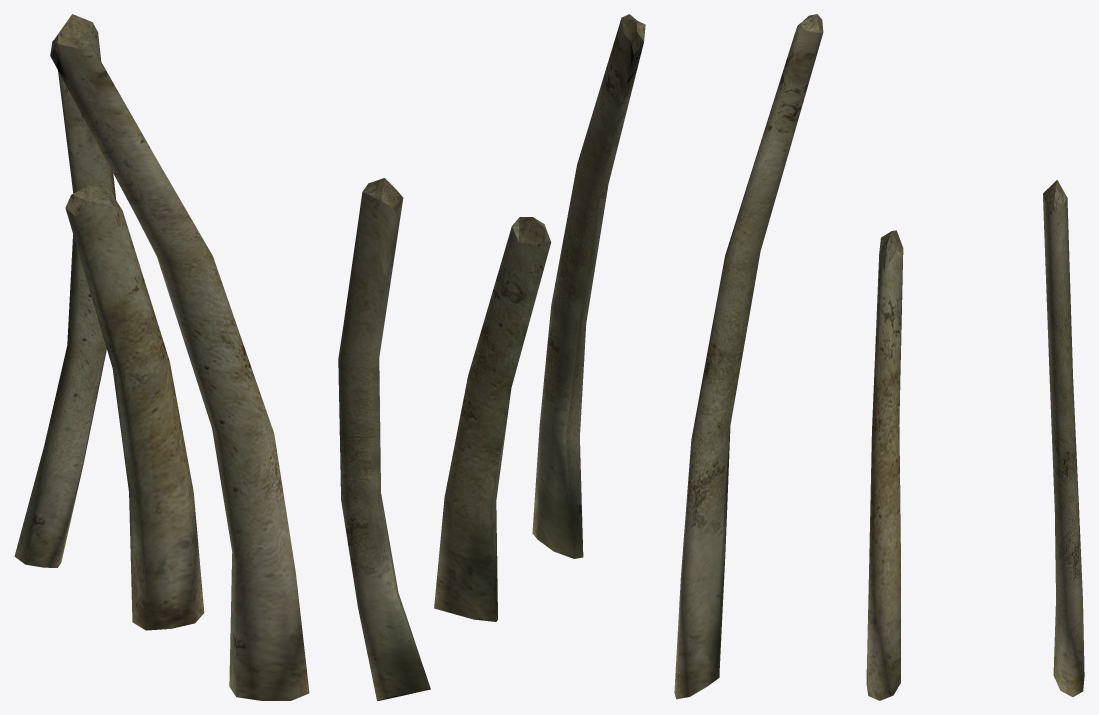
File: bone_whale_deco01.fbx
3 renders of one model, left to right at view 1: azimuth 30°, elevation 25°; view 2: azimuth 150°, elevation 25°; view 3: azimuth 270°, elevation 25°, orthographic. The views are drawn at different scales.
Visible parts, largest first — view 1: bone_whale_deco01; view 2: bone_whale_deco01; view 3: bone_whale_deco01.
Boxes of the visible parts, x1,y1,x2,y2 form: bone_whale_deco01: (14,14,309,700); bone_whale_deco01: (338,14,645,700); bone_whale_deco01: (674,14,1084,700).
Size of the model in its own units: 3.88 by 12.45 by 7.47.
